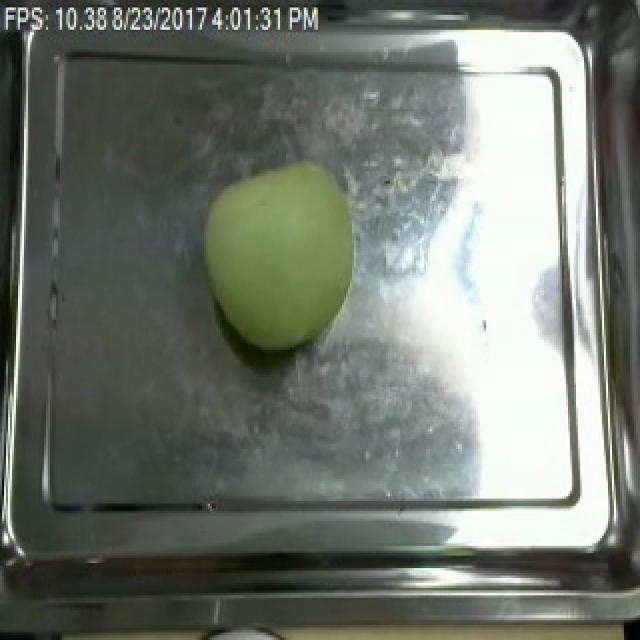50-_ripeness: (188, 163, 376, 370)
